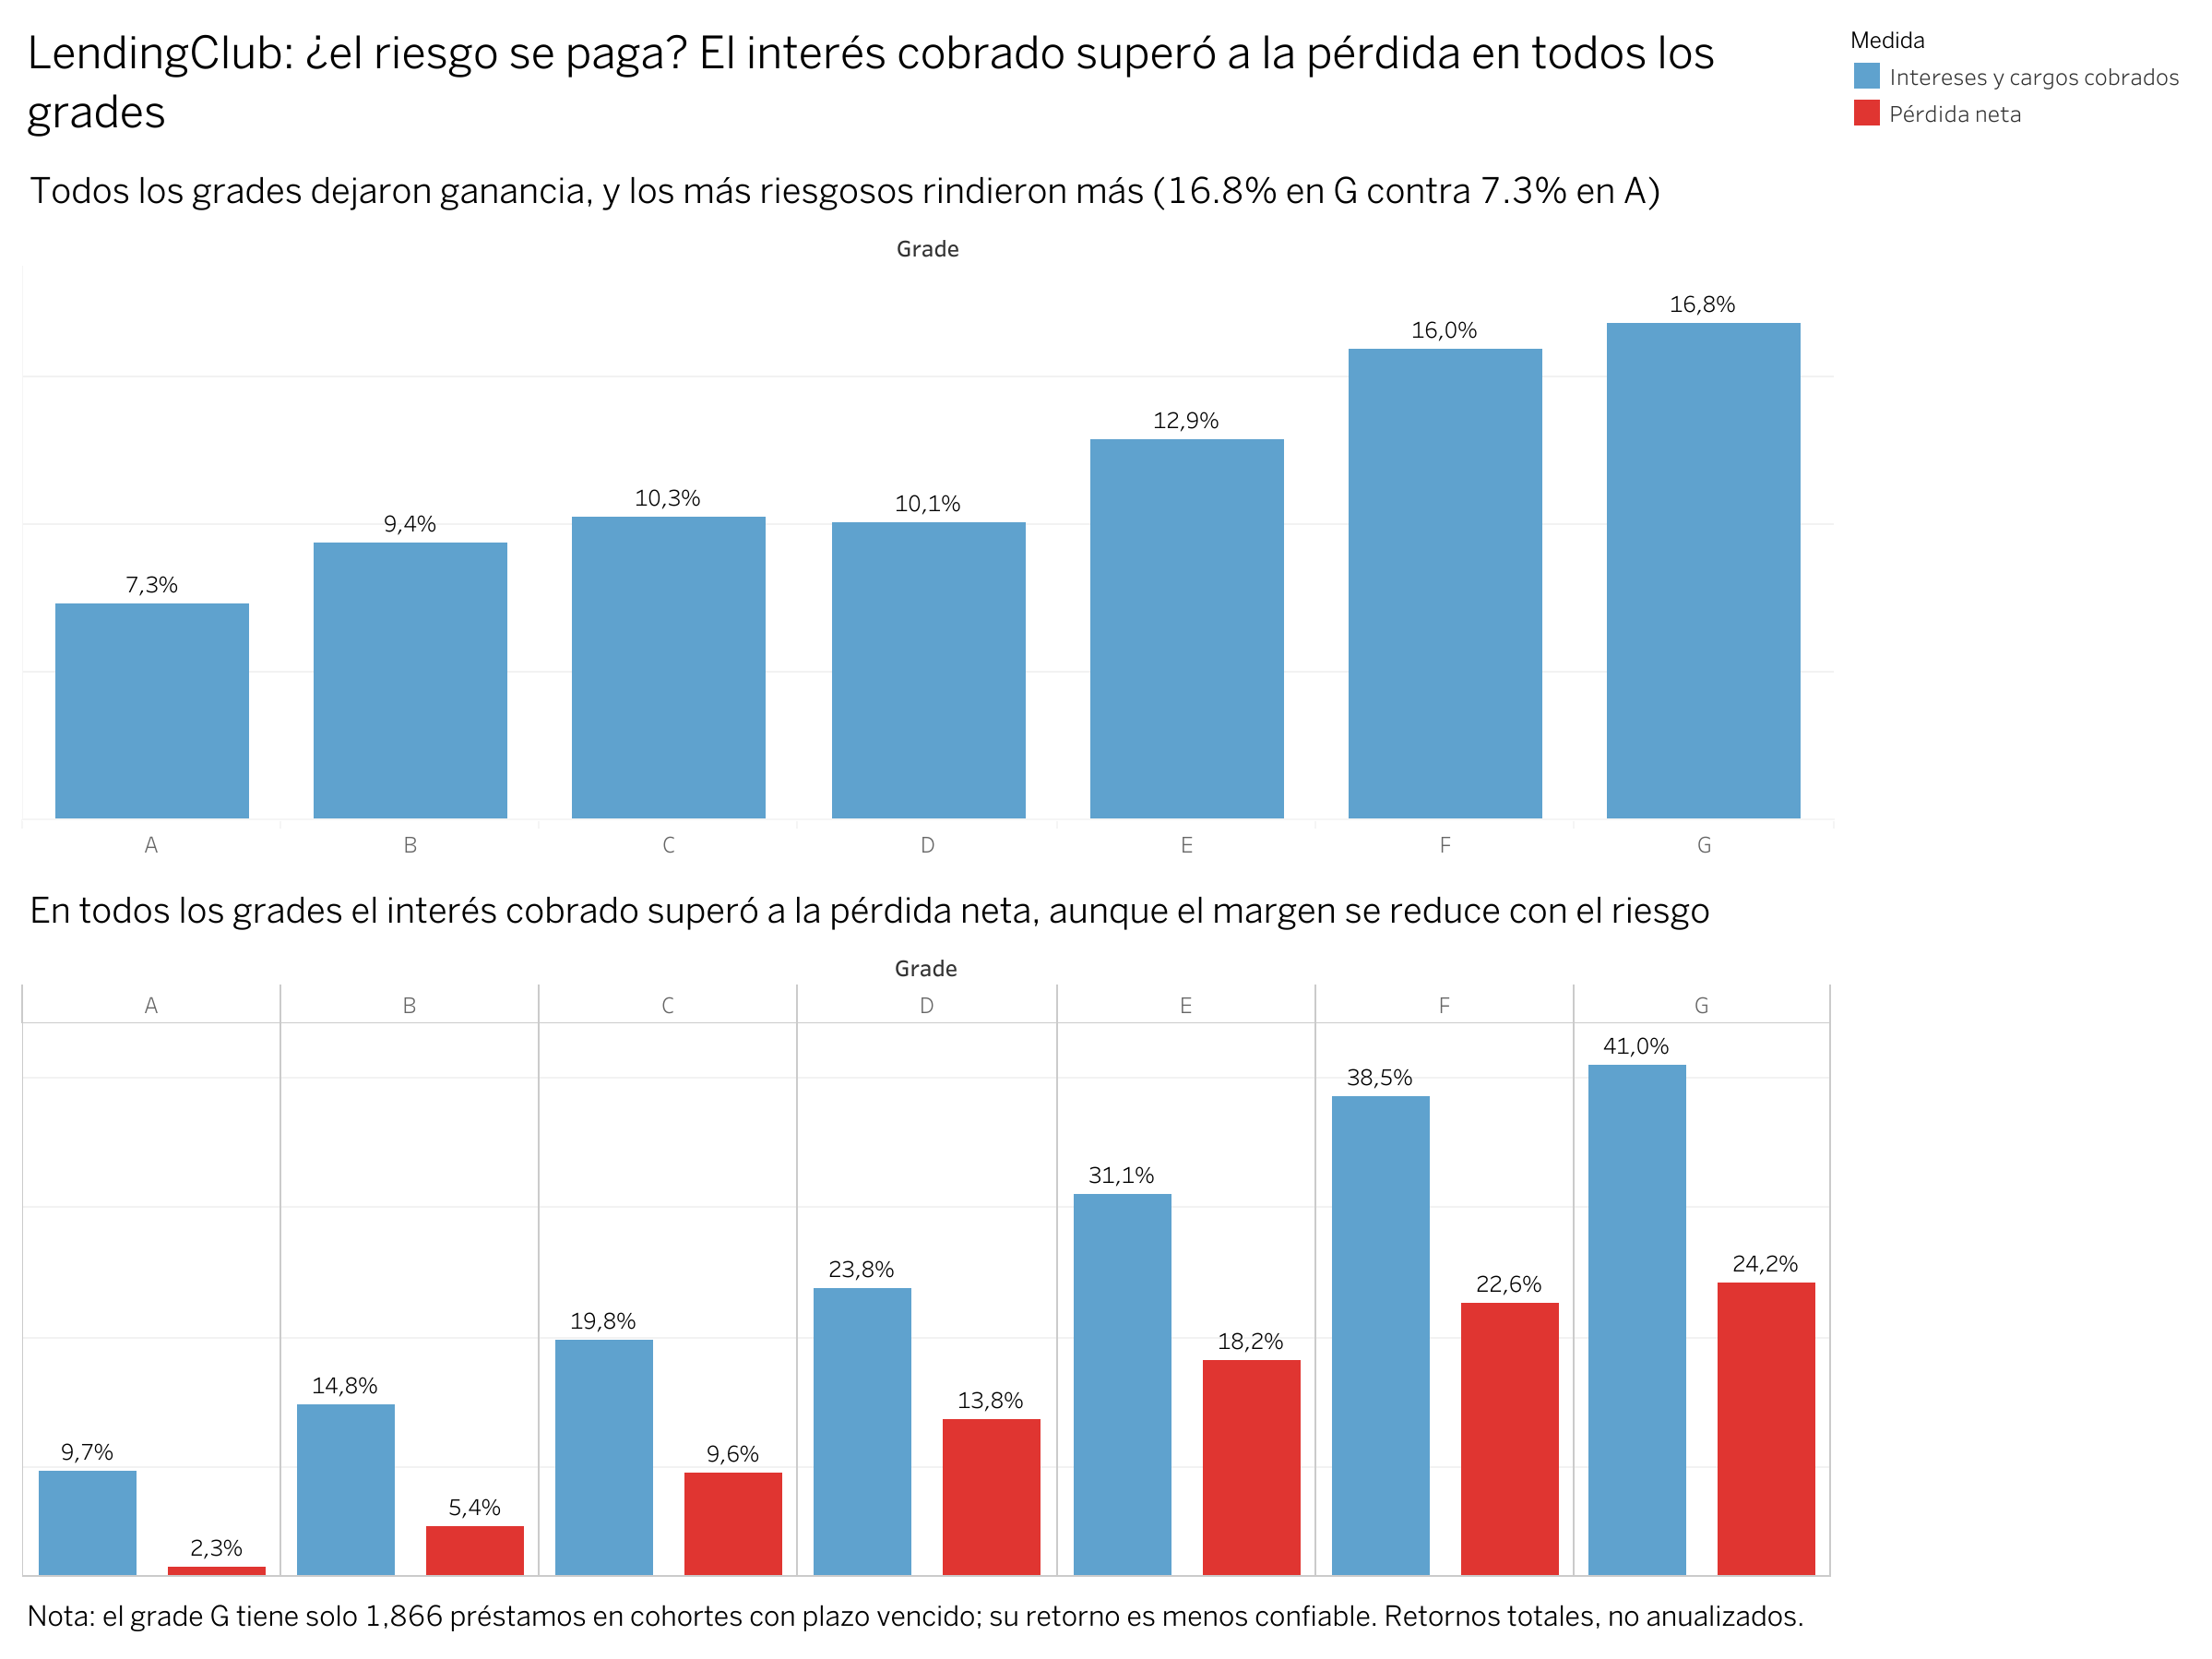

What the dashboard file says about the page in this screenshot:
{"tool":"tableau","page":{"name":"2 · Riesgo o ganancia","canvas":[1200,900],"ordinal":2},"visuals":[{"type":"title","box":[8,8,989.8,70]},{"type":"legend","title":"Interés contra pérdida","param":"[federated.0e31zk706vtg8k160t5x200k807c].[:Measure Names]","box":[997.8,8,194,71]},{"type":"worksheet","title":"Retorno por grade","mark":"Bar","rows":["gross_return_pct"],"cols":["grade"],"box":[8,78,989.8,390.5]},{"type":"worksheet","title":"Interés contra pérdida","mark":"Bar","cols":["grade"],"box":[8,468.5,989.8,390.5]},{"type":"text","box":[8,859,1184,33]}]}

Visuals, with their boxes in screenshot pixels (x1, y1, x2, y2), scaled from the page's 1200x900 canvas onto the 2212x1659 screenshot:
title: bbox=[15, 15, 1839, 144]
"Interés contra pérdida" legend: bbox=[1839, 15, 2197, 146]
"Retorno por grade" worksheet (Bar marks): bbox=[15, 144, 1839, 864]
"Interés contra pérdida" worksheet (Bar marks): bbox=[15, 864, 1839, 1583]
text: bbox=[15, 1583, 2197, 1644]
